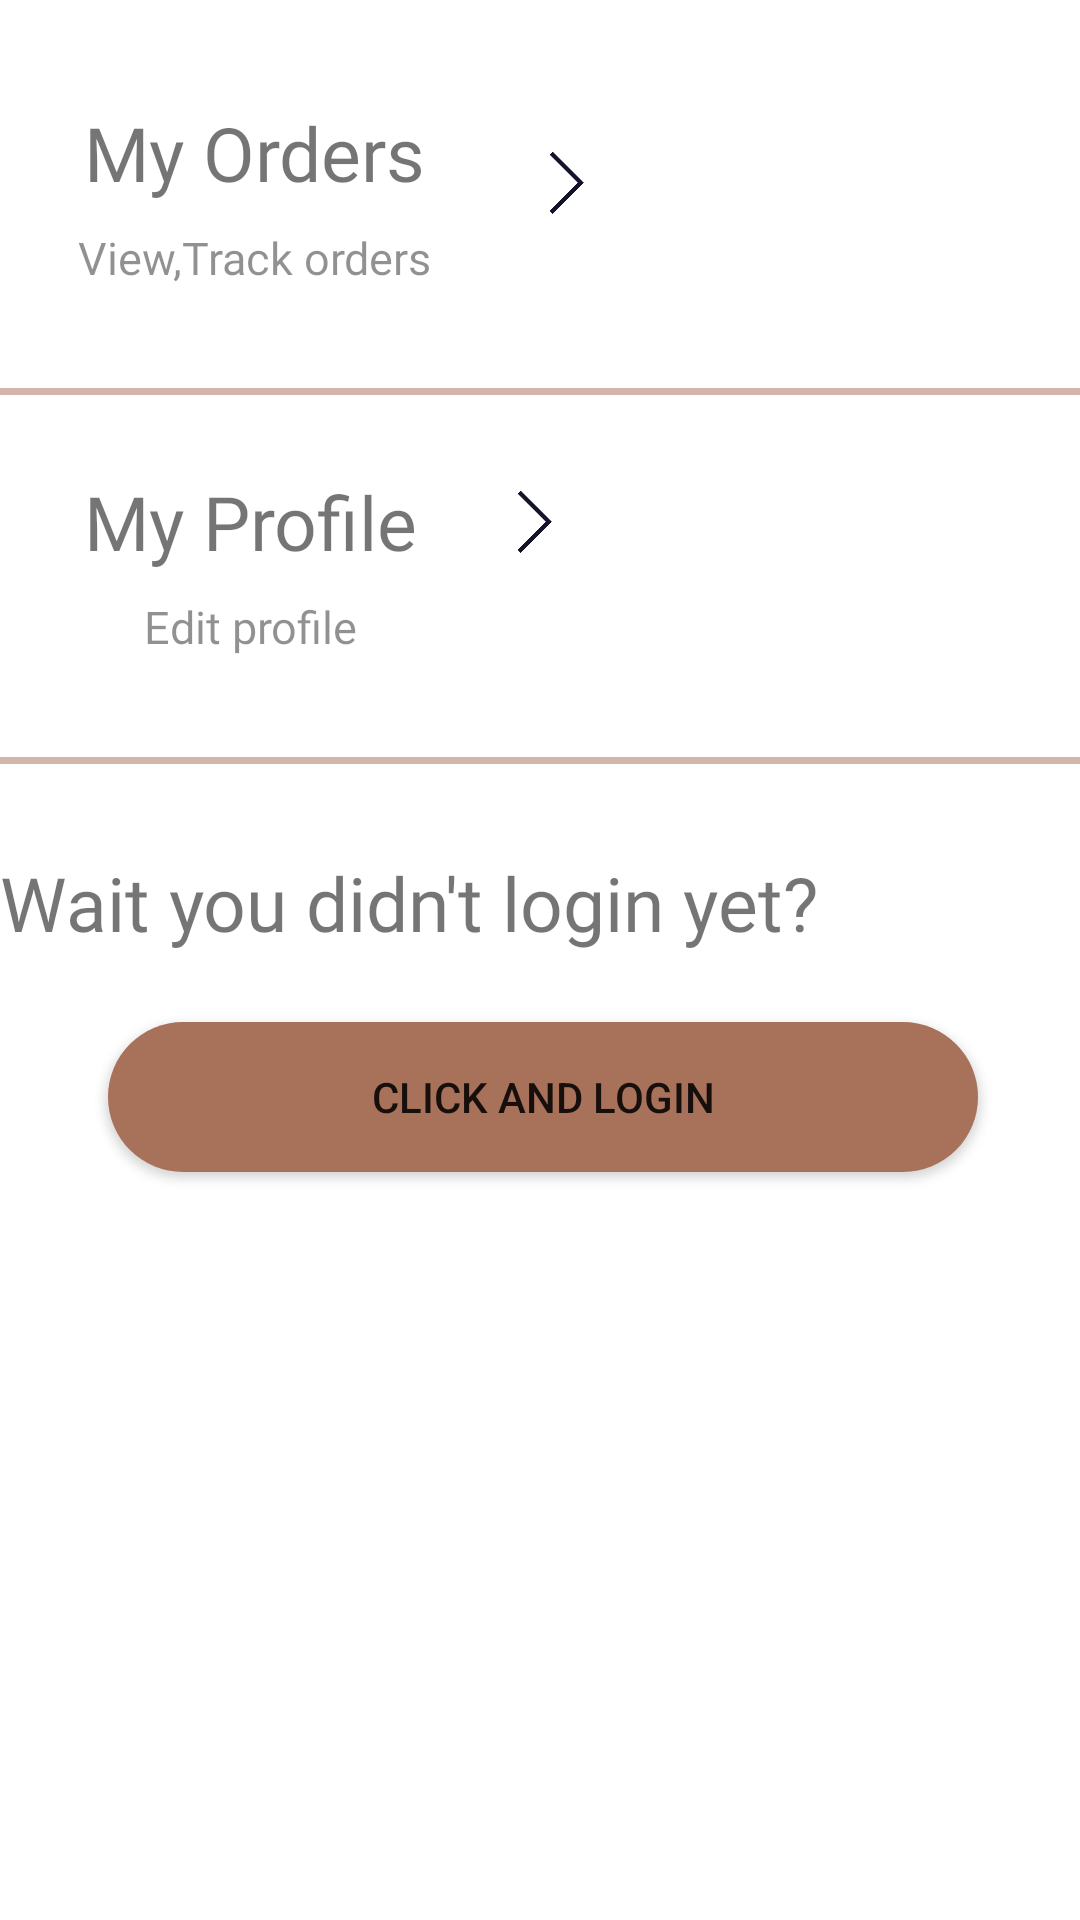

Icons on this 1080 × 1920 Android screen, each with its box as box(x1, y1, x2, y2):
forward: box(550, 152, 584, 214), box(518, 491, 552, 553)
